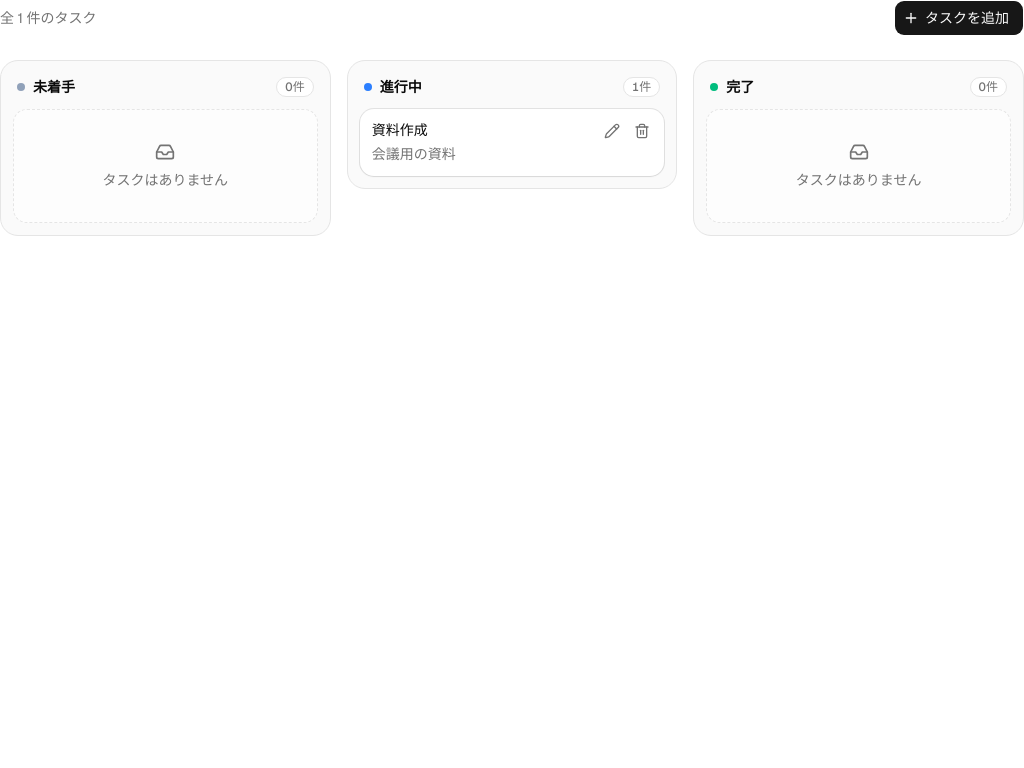
Scenario: KanbanBoard › 編集 › 編集ボタンを押すと、現在の値が入った編集ダイアログを開く
Step 1. Click the button named "「資料作成」を編集" → {"x": 612, "y": 131}, box [598,117,626,145]
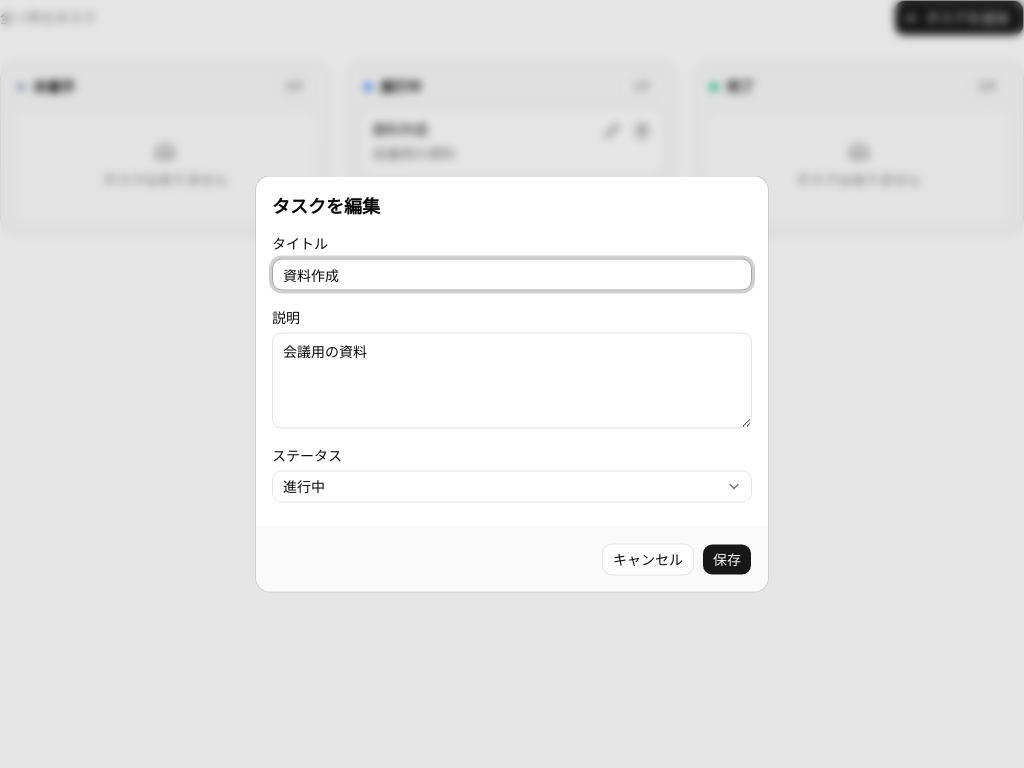
Expected: the field labelled "タイトル" holds "資料作成", [272,258,752,290]
Expected: the text box labelled "説明" holds "会議用の資料", [272,332,752,428]
Expected: the dropdown labelled "ステータス" shows "進行中", [272,470,752,502]
